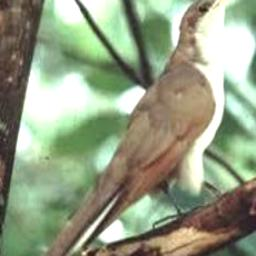Cuckoo: (7, 0, 243, 256)
